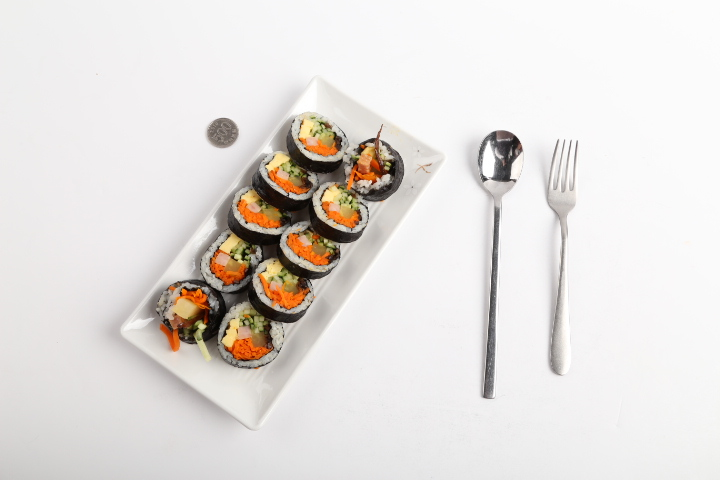dish: (119, 74, 445, 431)
ref_coin: (207, 117, 239, 148)
ref_fork: (547, 138, 578, 221)
ref_spoon: (477, 129, 524, 207)
김밥: (156, 112, 405, 368)
